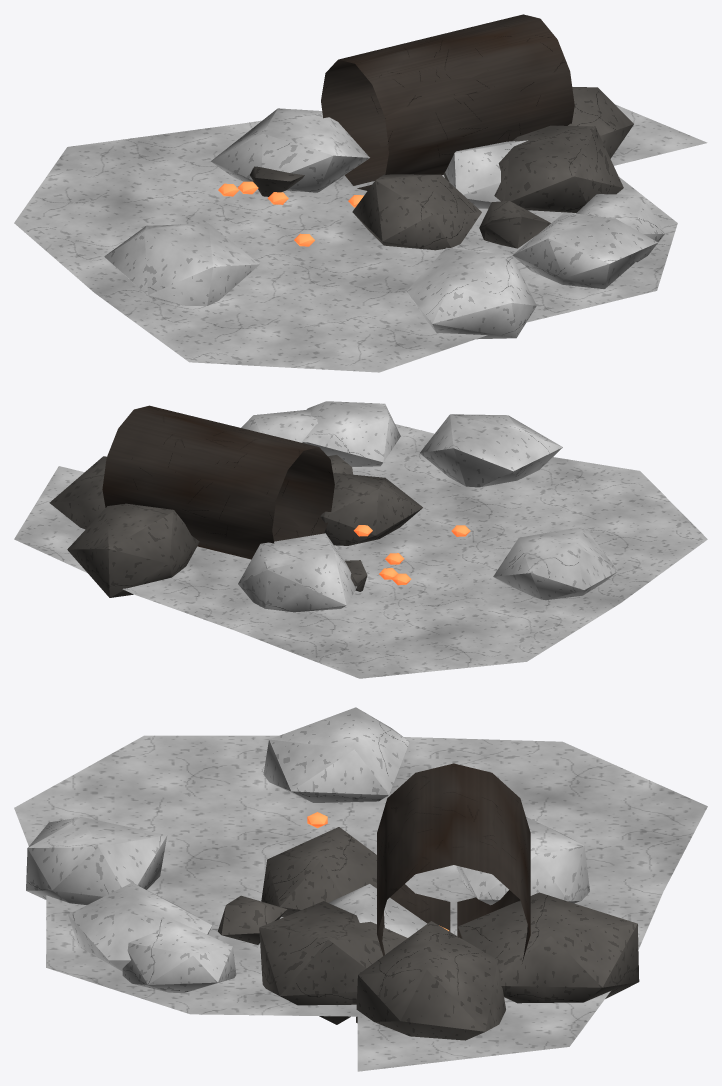
The model's file is burnt_trash.glb.
3 renders of one model, top to bottom at view 1: azimuth 30°, elevation 25°; view 2: azimuth 150°, elevation 25°; view 3: azimuth 270°, elevation 25°, orthographic. The views are drawn at different scales.
Parts seen in each view (by area): view 1: burnt_trash; view 2: burnt_trash; view 3: burnt_trash.
Part boxes in pixels (box(x1,y1,x2,y2)): burnt_trash: box(14, 14, 707, 372); burnt_trash: box(14, 401, 707, 678); burnt_trash: box(14, 707, 707, 1071).
Size of the model in its own units: 16.56 by 3.87 by 14.44.
5 materials, 4 textured.
